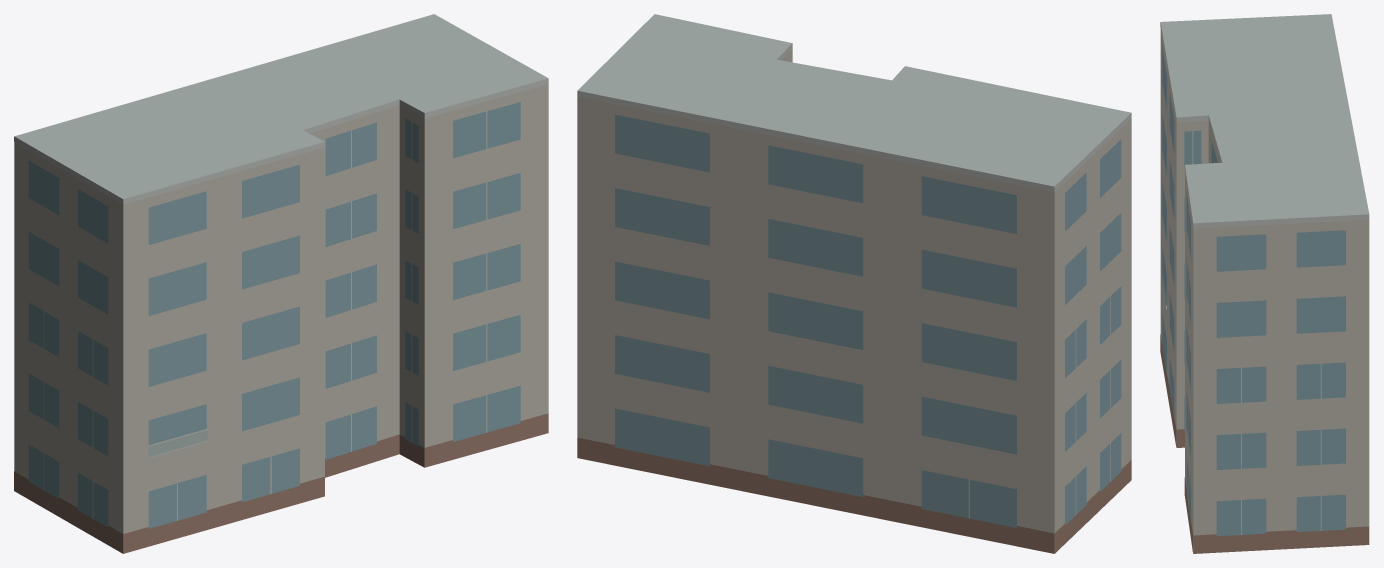
File: survey-upis-32665774.glb
The picture shows the model from 3 angles, left to right: view 1: azimuth 30°, elevation 25°; view 2: azimuth 150°, elevation 25°; view 3: azimuth 270°, elevation 25°; orthographic projection. The views are drawn at different scales.
Parts seen in each view (by area): view 1: survey-upis-32665774.tmp; view 2: survey-upis-32665774.tmp; view 3: survey-upis-32665774.tmp.
Part boxes in pixels (box(x1,y1,x2,y2)): survey-upis-32665774.tmp: box(14, 14, 548, 553); survey-upis-32665774.tmp: box(577, 14, 1131, 553); survey-upis-32665774.tmp: box(1160, 14, 1369, 553).
Size of the model in its own units: 20.72 by 15.25 by 8.74.
